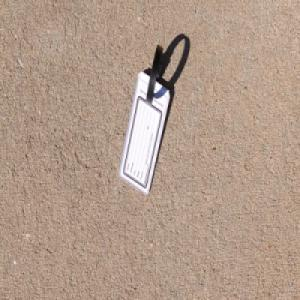LuggageTag: (118, 42, 171, 197)
